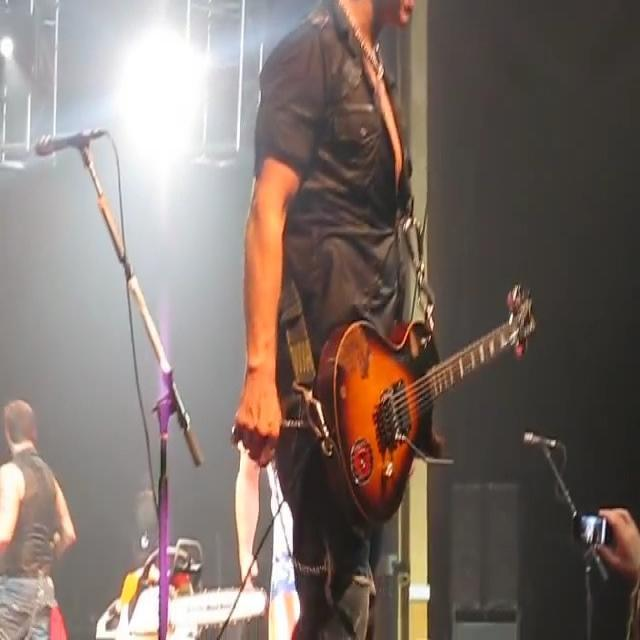Chainsaw: (84, 534, 271, 636)
